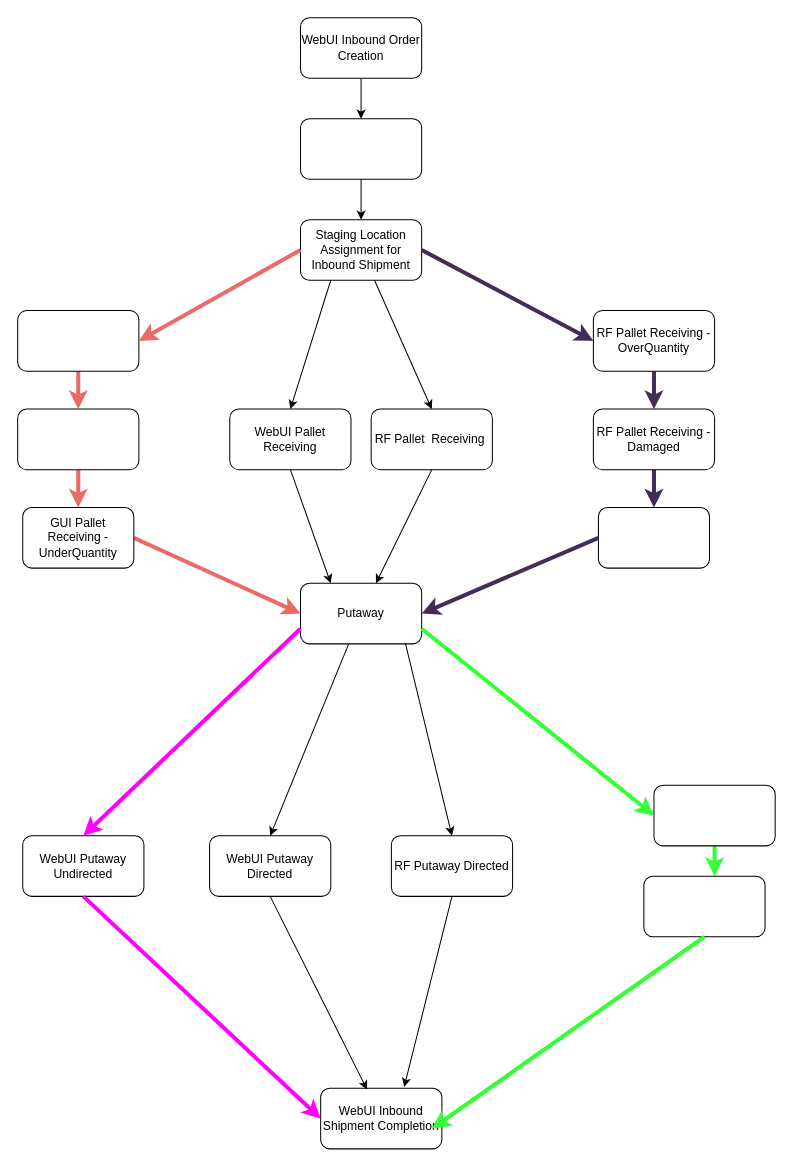
Image size: 793x1167. Some labels were removed from this diagram. Each missing label, with the box of its shape:
RF Pallet Receiving - UnderQuantity: (597, 507, 710, 568)
RF Putaway - Override: (643, 875, 765, 937)
RF Putaway - Undirected: (653, 784, 775, 846)
WebUI Pallet Receiving - Damaged: (17, 408, 139, 470)
WebUI Pallet Receiving - OverQuantity: (17, 310, 139, 371)
WebUI Shipment Creation on Existing Inbound Order: (299, 118, 422, 179)
